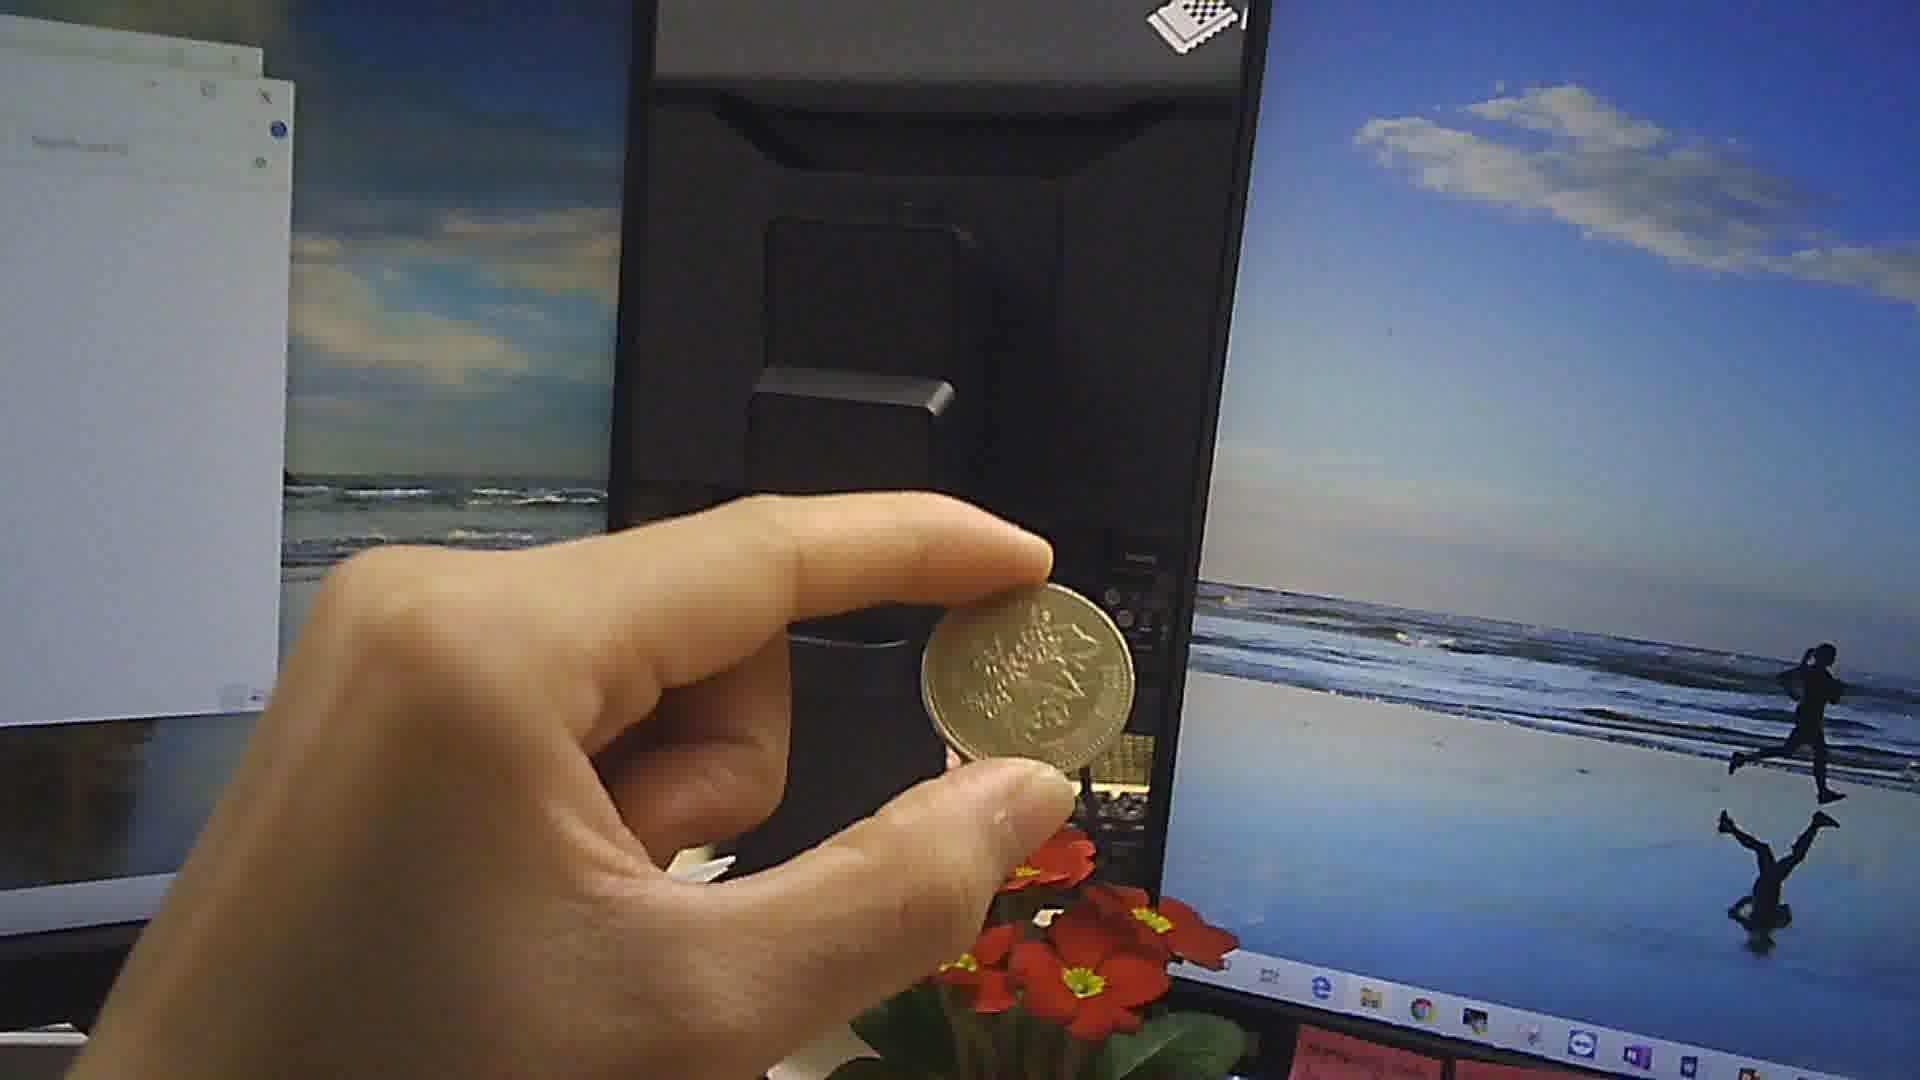500 Yen: (915, 576, 1134, 782)
